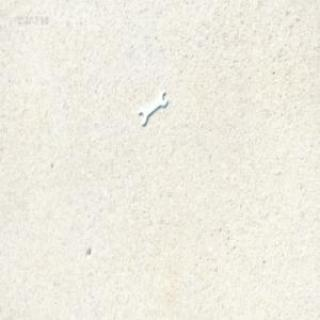Wrenchtrack_idkeyframe: (136, 89, 168, 125)
